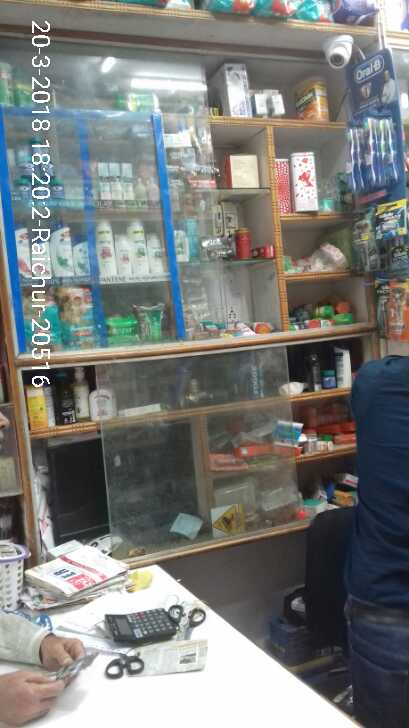beauty: (95, 216, 173, 278), (10, 215, 84, 279)
pharmacy: (3, 130, 77, 201), (19, 283, 96, 350), (103, 300, 172, 344)
